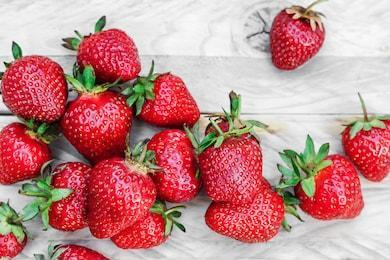Fresa: (84, 153, 158, 245), (200, 176, 294, 247), (57, 85, 135, 170), (290, 150, 369, 225), (195, 126, 264, 211), (1, 52, 71, 128), (70, 25, 144, 89), (135, 70, 206, 133), (268, 3, 328, 75), (107, 198, 176, 255), (1, 121, 55, 190), (339, 113, 390, 186)
